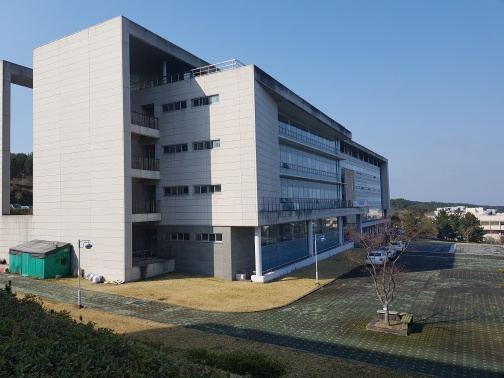Engineering College Building 4: (18, 23, 396, 235), (131, 41, 259, 283), (37, 47, 123, 281), (260, 90, 358, 273)
